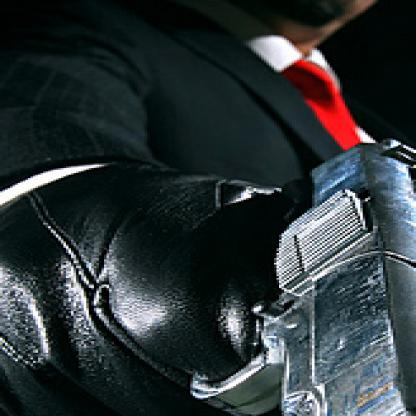gun: (172, 122, 414, 414)
